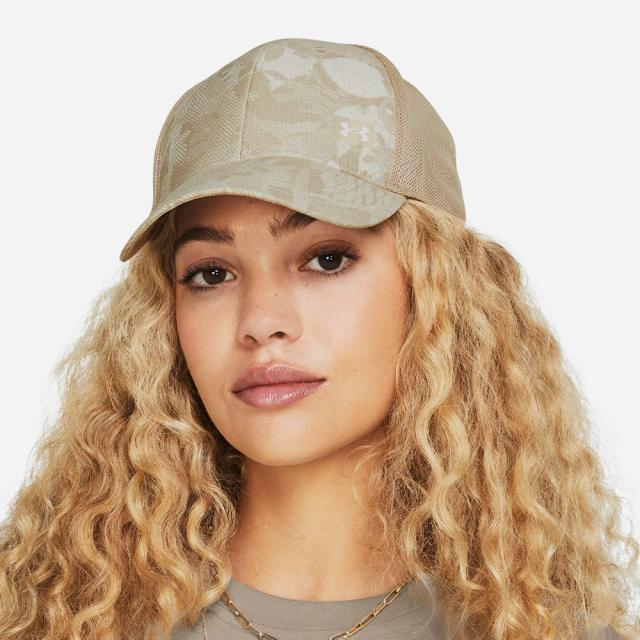Nonhelmet: (112, 29, 470, 485)
